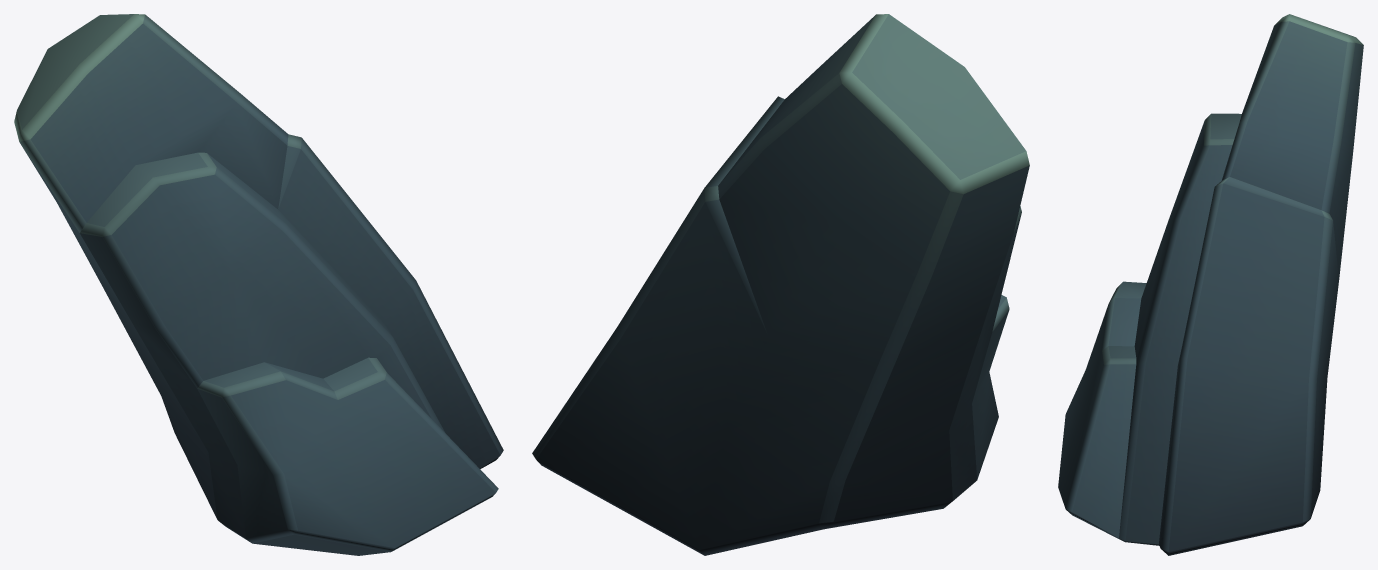
Rendered from rock_21.fbx.
3 views of the same model, side by side, from view 1: azimuth 30°, elevation 25°; view 2: azimuth 150°, elevation 25°; view 3: azimuth 270°, elevation 25° (orthographic). The views are drawn at different scales.
Parts seen in each view (by area): view 1: rock_21; view 2: rock_21; view 3: rock_21.
Part boxes in pixels (bbox=[...]): rock_21: bbox=[14, 14, 503, 555]; rock_21: bbox=[532, 14, 1029, 555]; rock_21: bbox=[1058, 14, 1363, 555].
Bounding box in the file's own units: 426 × 493 × 305.
